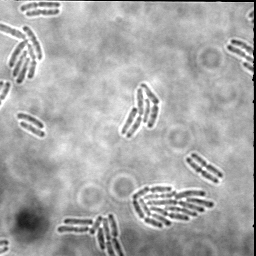Dividing: (184, 156, 220, 186), (189, 152, 224, 179), (226, 44, 254, 64), (19, 1, 61, 12), (230, 38, 254, 55), (25, 7, 60, 18)
Microcolony: (130, 184, 215, 229), (57, 214, 127, 256), (1, 22, 43, 84), (120, 82, 160, 139)
Rod: (15, 112, 45, 129), (19, 121, 46, 139)
